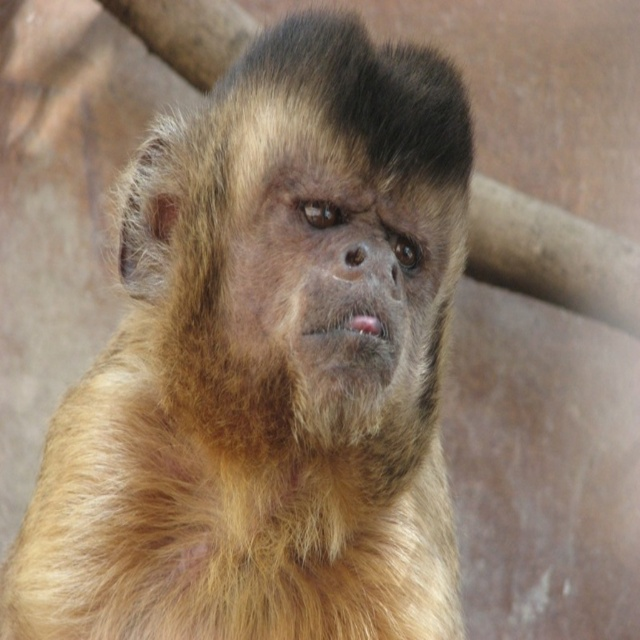Monkey: (0, 0, 499, 628)
